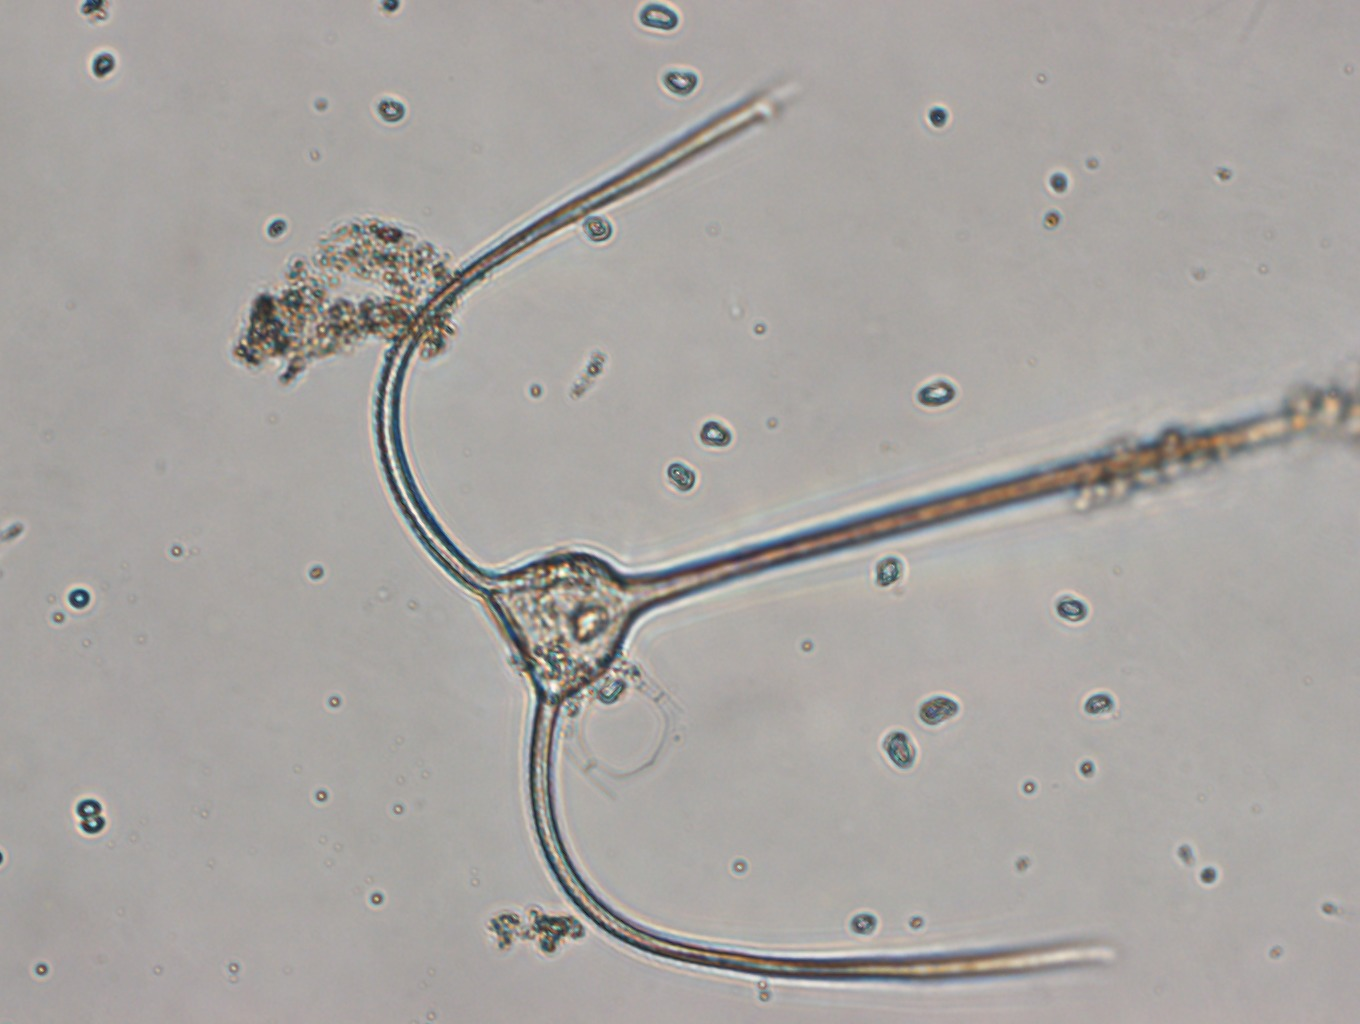ceratium trichoceros: (370, 79, 1357, 981)
